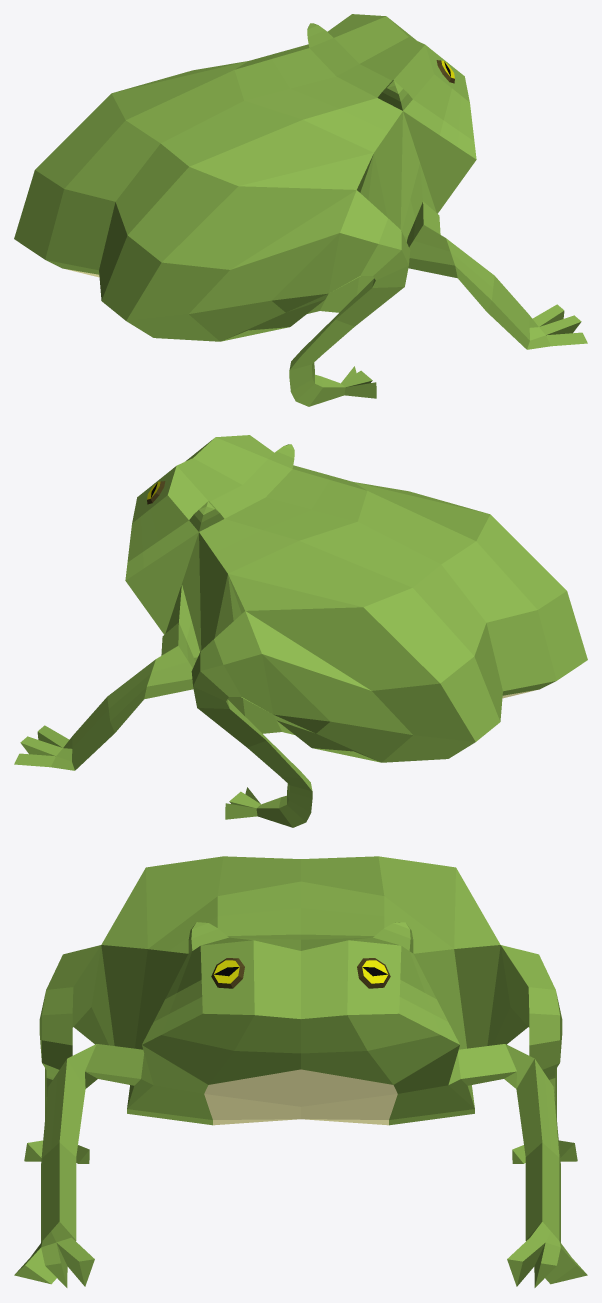
Rendered from Frog.fbx.
3 renders of one model, top to bottom at view 1: azimuth 30°, elevation 25°; view 2: azimuth 150°, elevation 25°; view 3: azimuth 270°, elevation 25°, orthographic. The views are drawn at different scales.
Visible parts, largest first — view 1: Cylinder; view 2: Cylinder; view 3: Cylinder.
Part boxes in pixels (x1,y1,x2,y2): Cylinder: (14, 14, 587, 406); Cylinder: (14, 435, 587, 827); Cylinder: (14, 856, 587, 1287).
Size of the model in its own units: 330 by 194 by 330.
